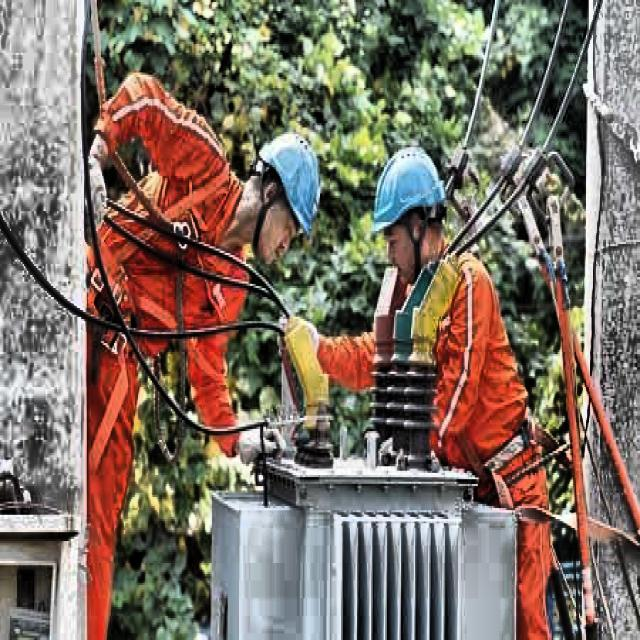helmet: (363, 138, 448, 284), (246, 134, 324, 246)
